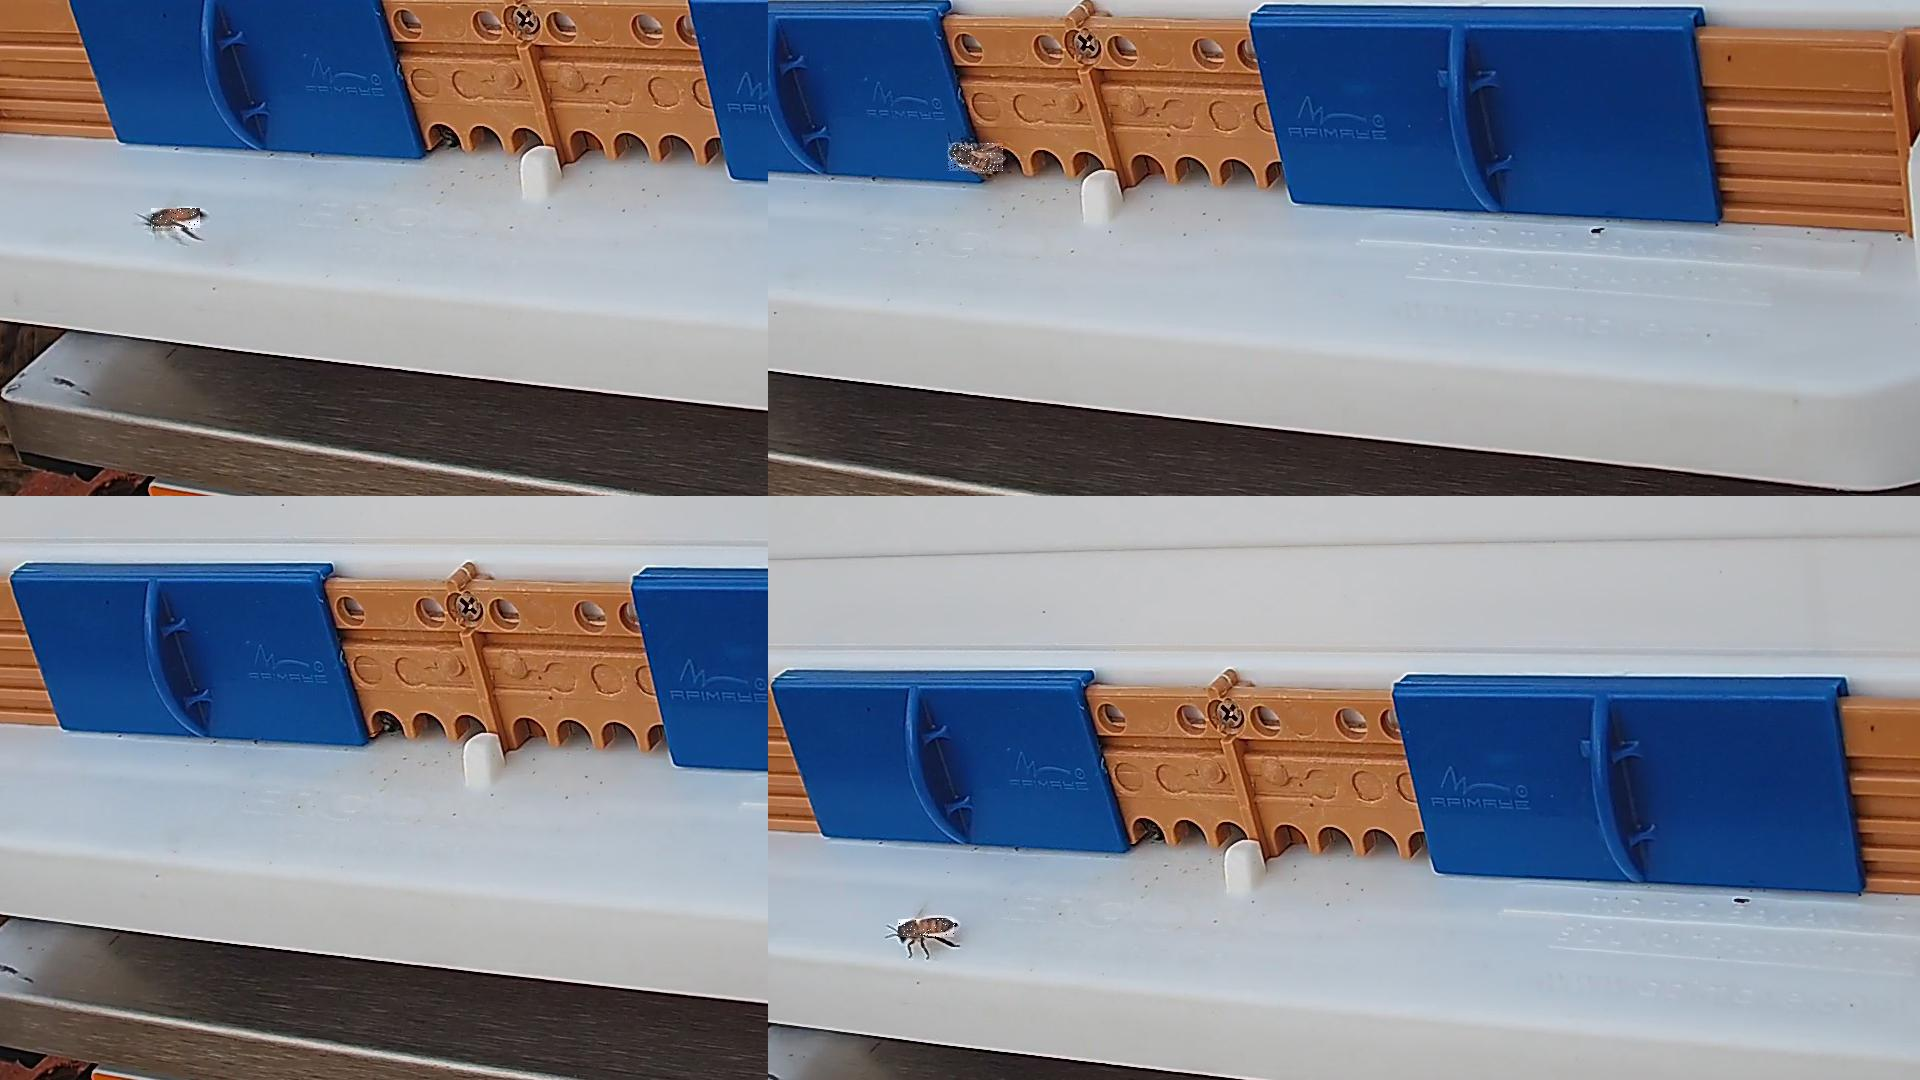bee: (948, 142, 1004, 173), (152, 208, 202, 232), (899, 919, 957, 938)
